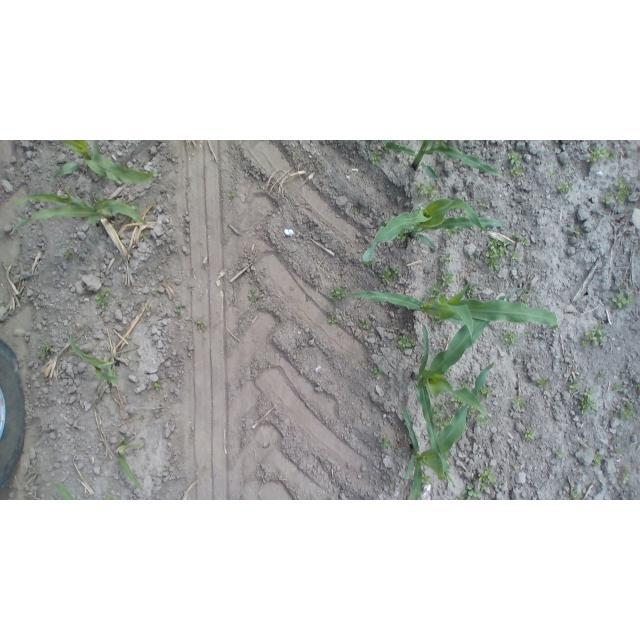Maize: (416, 286, 533, 486), (344, 282, 561, 355), (394, 360, 496, 500), (360, 200, 505, 268), (4, 189, 150, 236), (50, 141, 158, 188), (382, 141, 504, 181), (69, 332, 123, 386), (111, 437, 143, 492), (54, 481, 119, 500)
Weeds: (483, 241, 511, 272), (581, 321, 608, 351), (412, 179, 440, 203), (585, 146, 615, 167), (580, 386, 599, 416), (611, 285, 632, 312), (614, 174, 630, 207), (432, 401, 450, 430), (477, 467, 498, 491), (507, 150, 523, 179), (425, 280, 444, 303), (95, 287, 112, 312), (469, 406, 488, 428), (397, 334, 419, 353), (381, 265, 401, 285), (511, 395, 532, 414), (247, 288, 266, 308), (459, 483, 481, 500), (329, 284, 349, 302), (369, 146, 386, 167), (377, 435, 395, 453), (618, 402, 634, 422), (500, 330, 516, 350), (192, 318, 212, 333), (616, 462, 630, 483), (37, 342, 53, 360), (462, 284, 481, 299), (369, 366, 387, 381), (557, 182, 576, 196), (569, 484, 585, 500), (520, 428, 536, 444), (174, 302, 191, 317), (449, 395, 465, 410), (358, 317, 374, 332), (550, 445, 567, 459), (439, 252, 453, 267), (478, 388, 494, 401), (536, 376, 551, 389), (445, 273, 458, 288), (63, 249, 75, 264), (395, 231, 410, 243), (327, 310, 338, 326), (152, 378, 164, 392), (591, 453, 603, 467), (566, 380, 580, 392), (599, 194, 613, 206), (595, 371, 610, 382), (63, 186, 76, 198), (419, 471, 430, 485), (613, 380, 624, 393), (445, 227, 458, 238), (349, 208, 360, 219), (568, 226, 580, 236), (151, 287, 161, 298), (225, 190, 237, 199), (459, 379, 469, 389), (137, 231, 147, 241), (521, 329, 531, 339), (510, 252, 520, 262), (521, 237, 531, 247), (145, 305, 154, 316), (547, 170, 559, 178), (611, 448, 621, 457), (476, 202, 486, 211), (466, 251, 475, 260), (513, 231, 521, 241), (393, 442, 400, 452), (611, 435, 618, 444)
